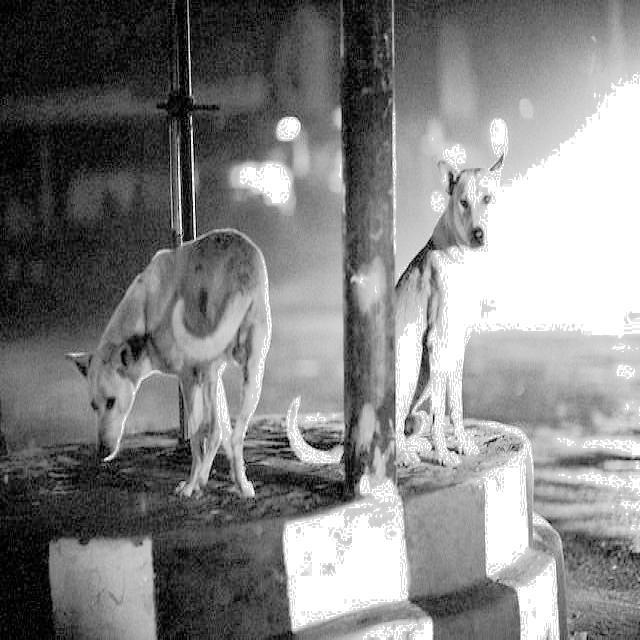Dog: (85, 194, 298, 522), (353, 127, 512, 493)
